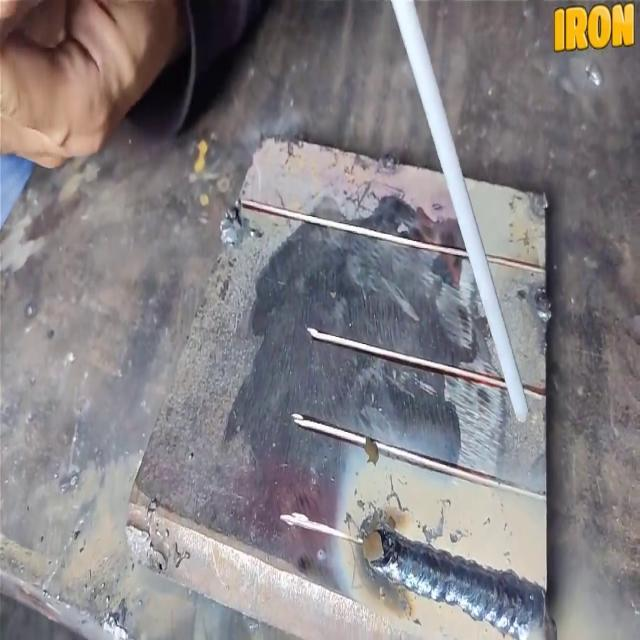Good Welding: (361, 518, 545, 638)
